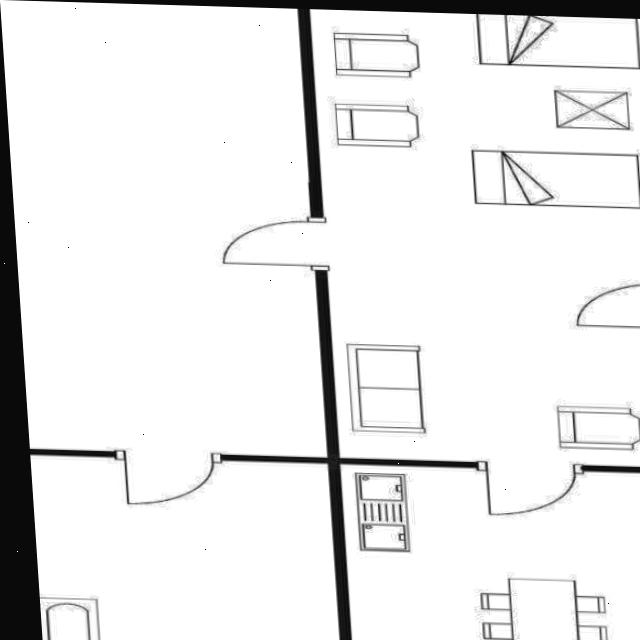room: (310, 9, 640, 467), (30, 455, 340, 640), (340, 464, 640, 640)
